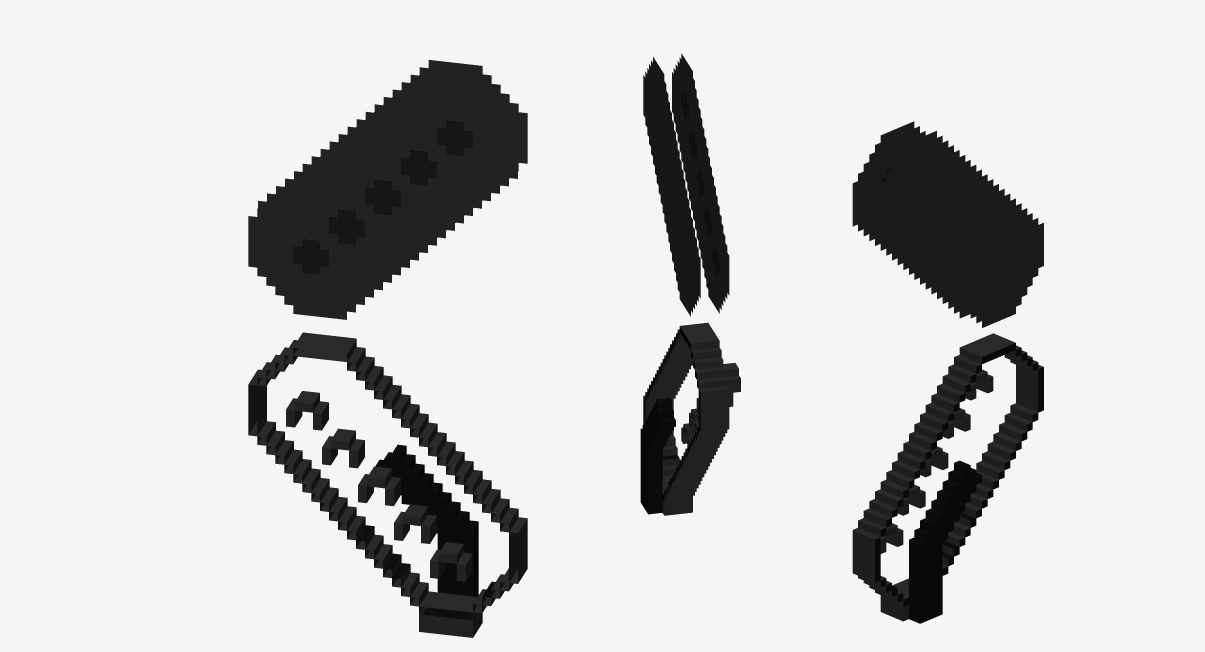
Rendered from indicator_1_45.obj.
The picture shows the model from 3 angles, left to right: view 1: azimuth 30°, elevation 25°; view 2: azimuth 150°, elevation 25°; view 3: azimuth 270°, elevation 25°; orthographic projection. The views are drawn at different scales.
Size of the model in its own units: 1.5 by 2.06 by 1.5.
